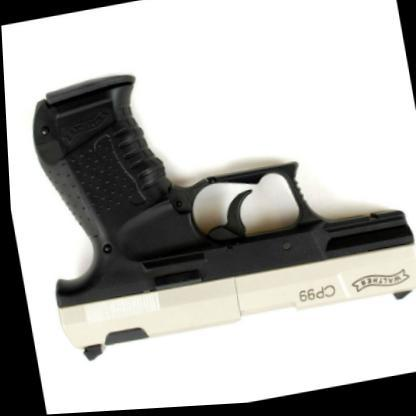pistol: (16, 28, 415, 367)
